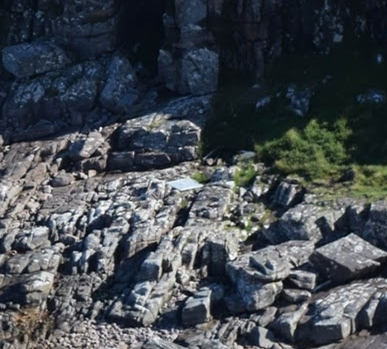white_in_green: (152, 162, 218, 206)
